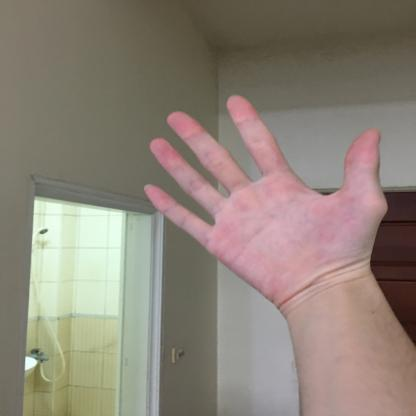bare_hand: (132, 81, 400, 320)
